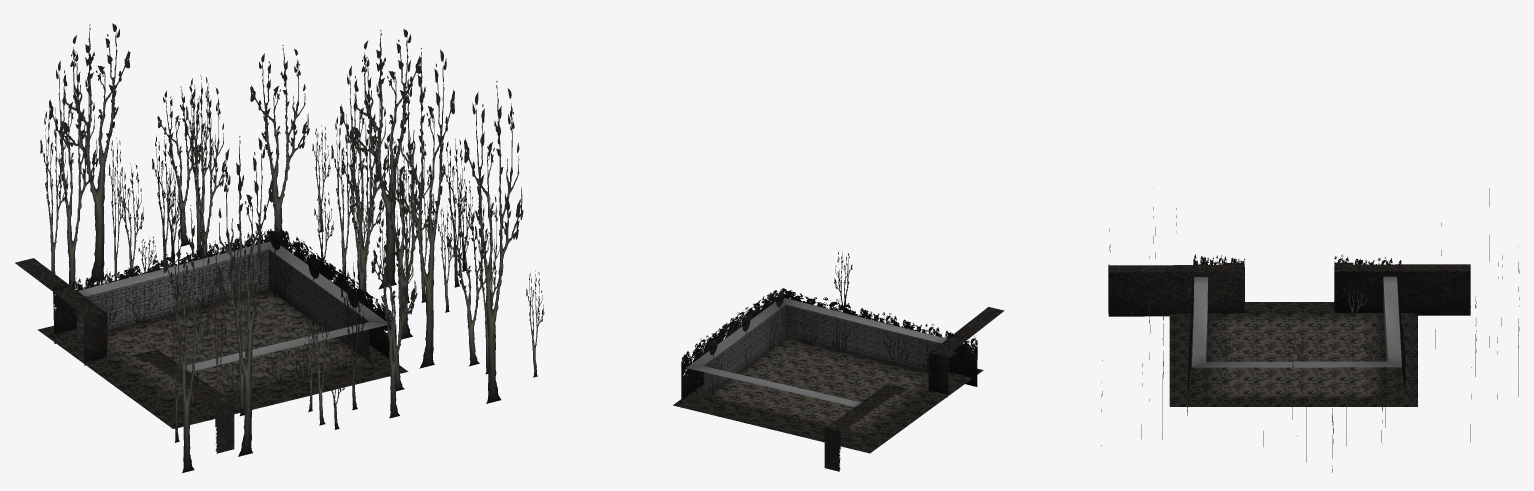
File: room_18.glb
3 views of the same model, side by side, from view 1: azimuth 30°, elevation 25°; view 2: azimuth 150°, elevation 25°; view 3: azimuth 270°, elevation 25° (orthographic). The views are drawn at different scales.
Parts seen in each view (by area): view 1: ground, polySurface34, closebushes, pPlane394__billboard, pPlane50__billboard, pPlane392__billboard, pPlane274__billboard, pPlane409__billboard, pPlane393__billboard, pPlane271__billboard, polySurface37, pPlane269__billboard (+26 smaller); view 2: ground, polySurface35, polySurface34, closebushes, polySurface36, polySurface37; view 3: ground, polySurface36, polySurface37, polySurface34, polySurface35, closebushes.
Boxes of the visible parts, <box> form: ground: <box>37,289,408,428</box>; polySurface34: <box>76,241,389,361</box>; closebushes: <box>53,227,396,358</box>; pPlane394__billboard: <box>396,48,454,368</box>; pPlane50__billboard: <box>214,136,273,456</box>; pPlane392__billboard: <box>464,81,523,403</box>; pPlane274__billboard: <box>59,23,130,283</box>; pPlane409__billboard: <box>350,29,421,289</box>; pPlane393__billboard: <box>163,205,212,472</box>; pPlane271__billboard: <box>49,51,98,287</box>; polySurface37: <box>15,258,107,365</box>; pPlane269__billboard: <box>250,45,309,236</box>; ground: <box>673,338,983,453</box>; polySurface35: <box>783,298,946,373</box>; polySurface34: <box>687,301,861,406</box>; closebushes: <box>681,288,977,408</box>; polySurface36: <box>928,307,1004,397</box>; polySurface37: <box>824,384,907,471</box>; ground: <box>1169,302,1417,406</box>; polySurface36: <box>1108,262,1244,316</box>; polySurface37: <box>1334,262,1470,315</box>; polySurface34: <box>1193,276,1401,387</box>; polySurface35: <box>1192,277,1208,385</box>; closebushes: <box>1187,254,1405,415</box>.
Bounding box in the file's own units: 144 × 103 × 135.
8 materials, 8 textured.
